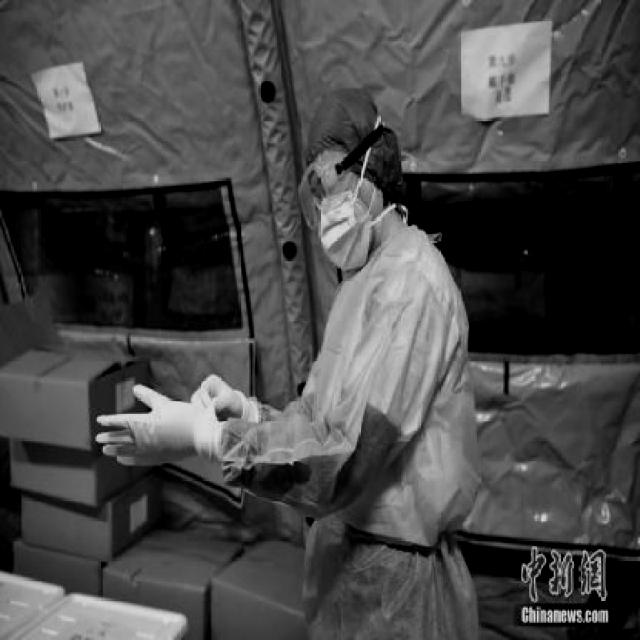face_mask: (303, 169, 391, 268)
glasses: (290, 151, 350, 226)
hand_glove: (100, 386, 195, 466), (190, 372, 248, 418)
head_nohelmet: (302, 86, 393, 171)
person: (65, 74, 529, 638)
